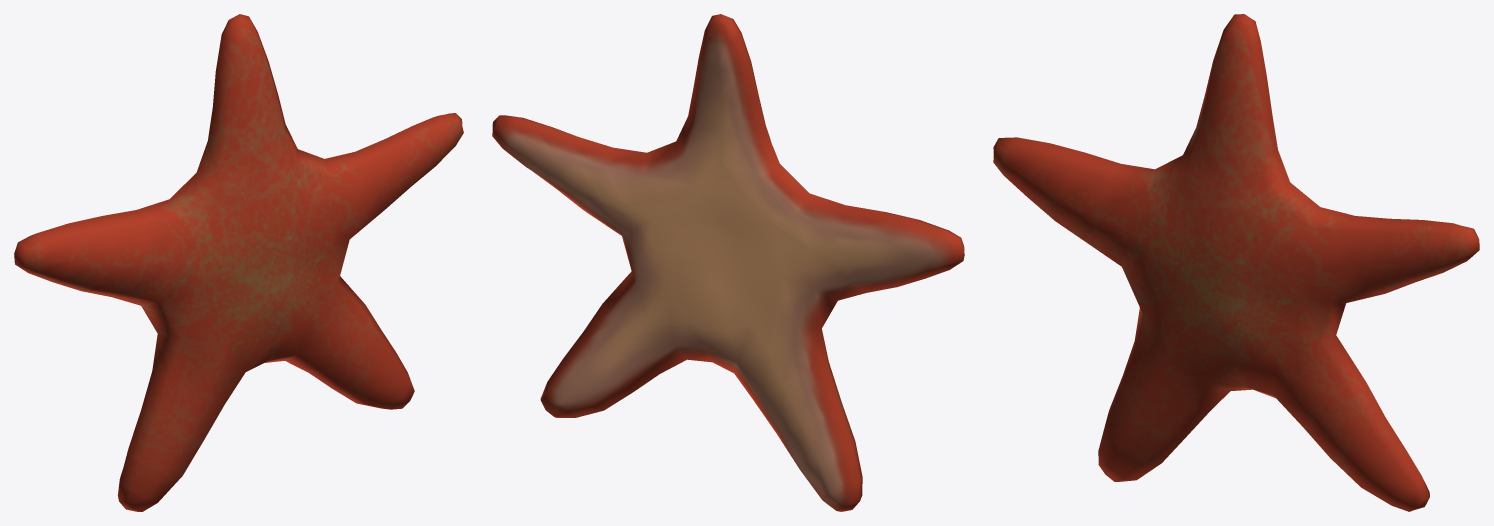
File: estrela.fbx
3 views of the same model, side by side, from view 1: azimuth 30°, elevation 25°; view 2: azimuth 150°, elevation 25°; view 3: azimuth 330°, elevation 25° (orthographic). The views are drawn at different scales.
Visible parts, largest first — view 1: LP; view 2: LP; view 3: LP.
Boxes of the visible parts, bbox=[...] form: LP: bbox=[14, 14, 463, 511]; LP: bbox=[492, 14, 964, 511]; LP: bbox=[993, 14, 1479, 511].
Size of the model in its own units: 20.78 by 20.32 by 2.7.
Materials: 1 (1 with a texture image).
